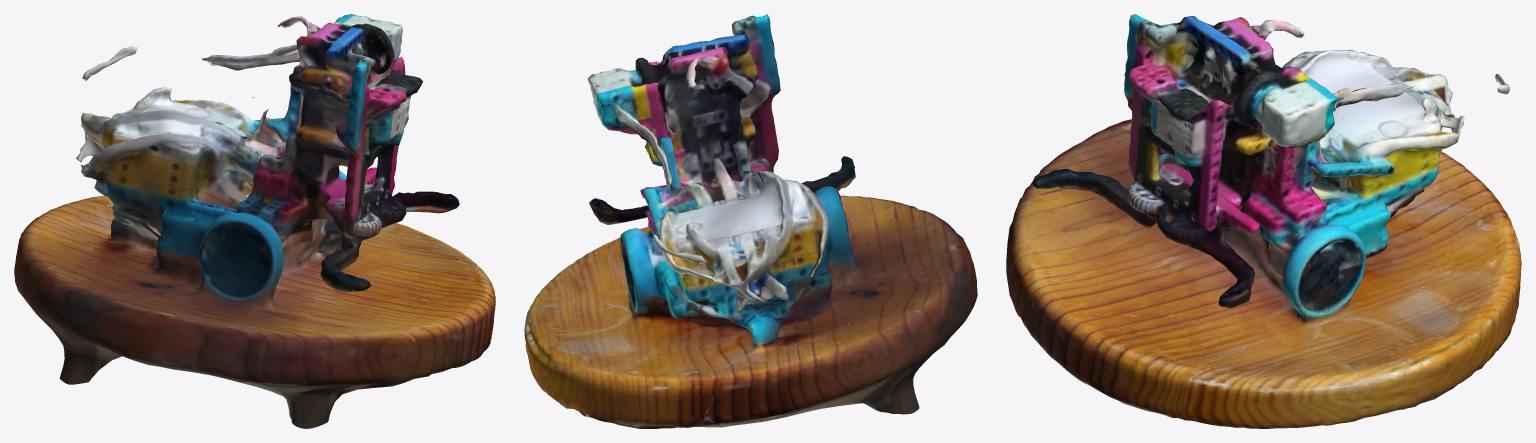
Rendered from Robot.glb.
3 renders of one model, left to right at view 1: azimuth 30°, elevation 25°; view 2: azimuth 150°, elevation 25°; view 3: azimuth 270°, elevation 25°, orthographic. The views are drawn at different scales.
Visible parts, largest first — view 1: 3DModel; view 2: 3DModel; view 3: 3DModel.
Part boxes in pixels (x1=…): 3DModel: x1=14, y1=14, x2=495, y2=428; 3DModel: x1=524, y1=14, x2=977, y2=428; 3DModel: x1=1006, y1=14, x2=1521, y2=428.
Size of the model in its own units: 0.4142 by 0.2983 by 0.419.
1 material, 1 textured.
